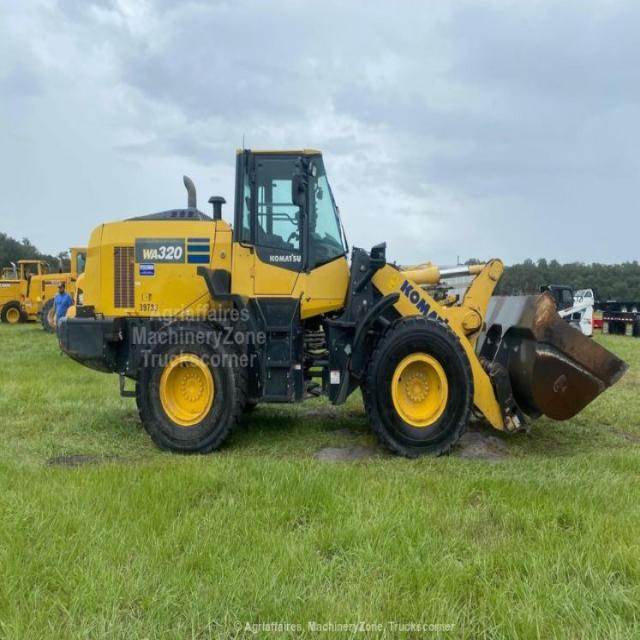buldozerpayloadergrader: (56, 138, 626, 460)
